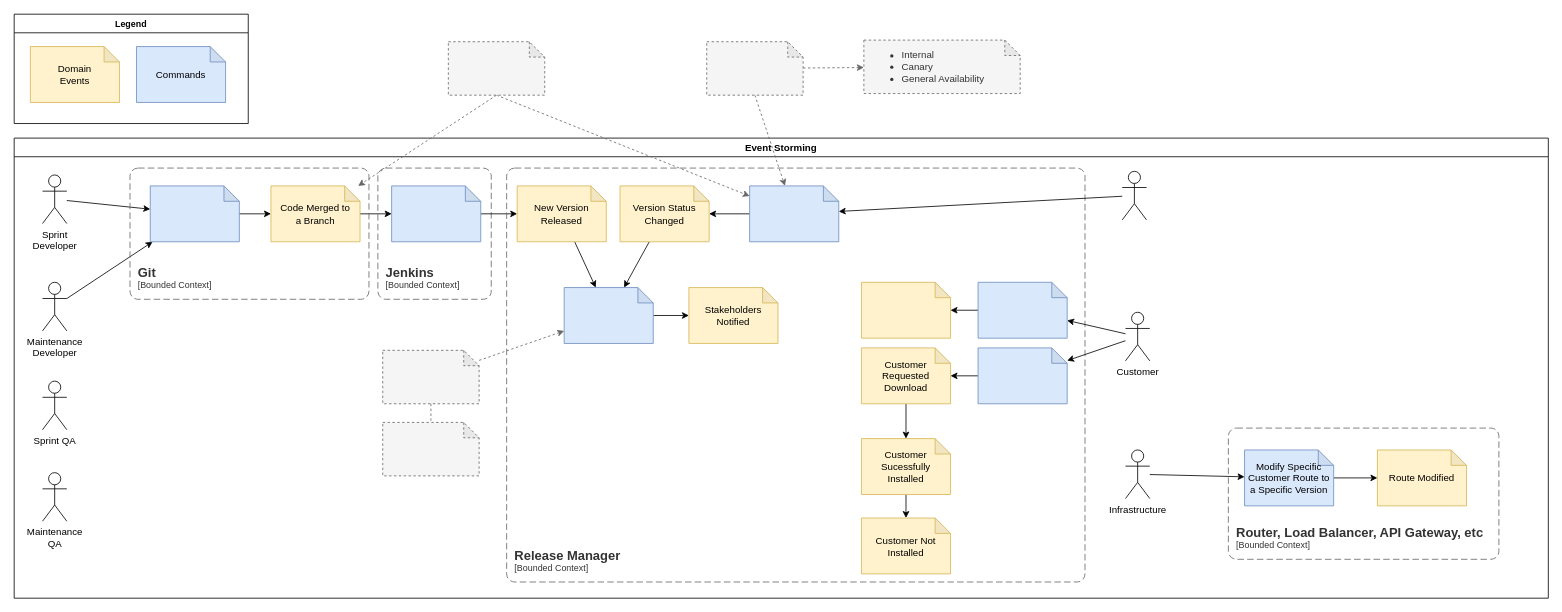
Some shapes in this 1562 by 612 pixel diagram are drawn without their labels. The shapes that lost their labels are listed below. From the top down, each one's centre as x and y in pixels, then its label:
At [496,68]: "Need to correlate a branch to a version type".
At [754,68]: "Need to create a status list".
At [194,213]: "Merge Request".
At [436,213]: "Release New Version".
At [794,213]: "Set Version Status".
At [1134,195]: "Helpdesk".
At [608,315]: "Notify Stakeholders".
At [906,309]: "Customer Requested Released Versions".
At [1022,309]: "Request Released Versions".
At [430,377]: "Need to create a stakeholder list by the user".
At [1022,375]: "Request Download".
At [430,449]: "QA Helpdesk Customer".
